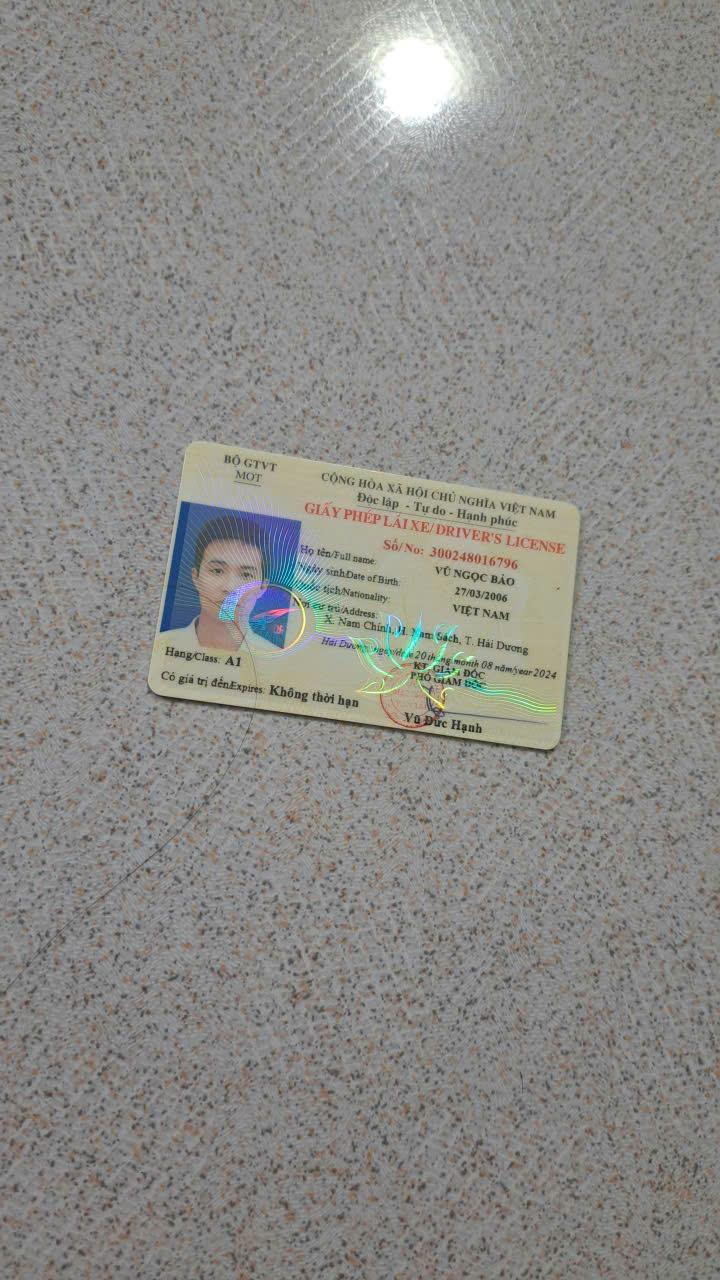gplx: (142, 433, 588, 757)
